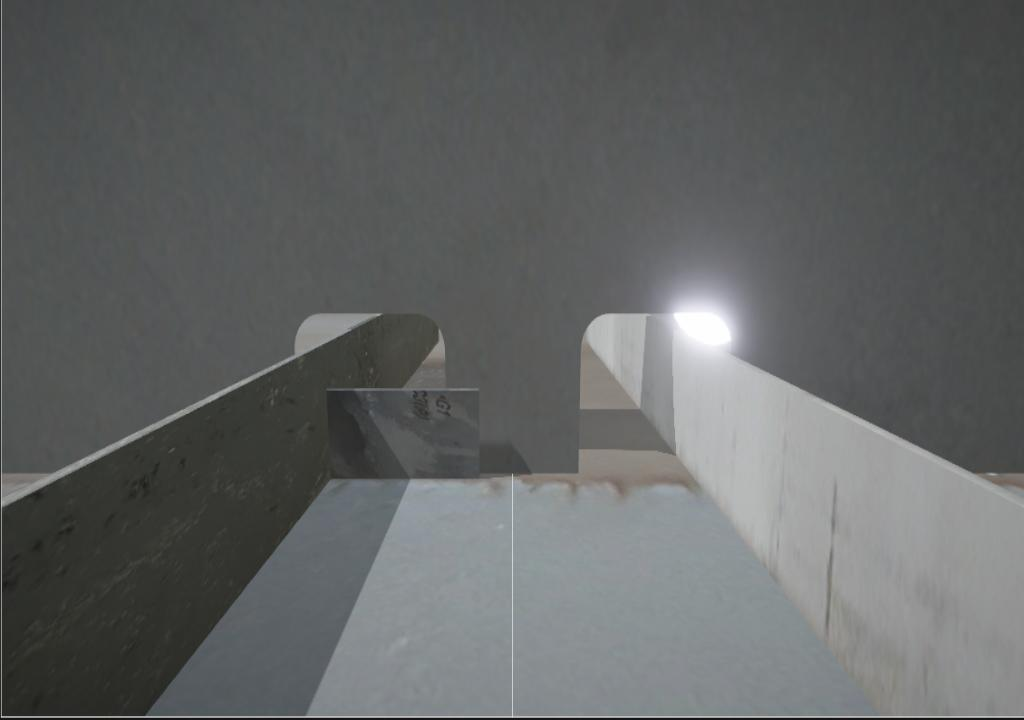fillet_yong_jeop_jang: (480, 468, 584, 483)
plate_CP01: (324, 387, 480, 480)
